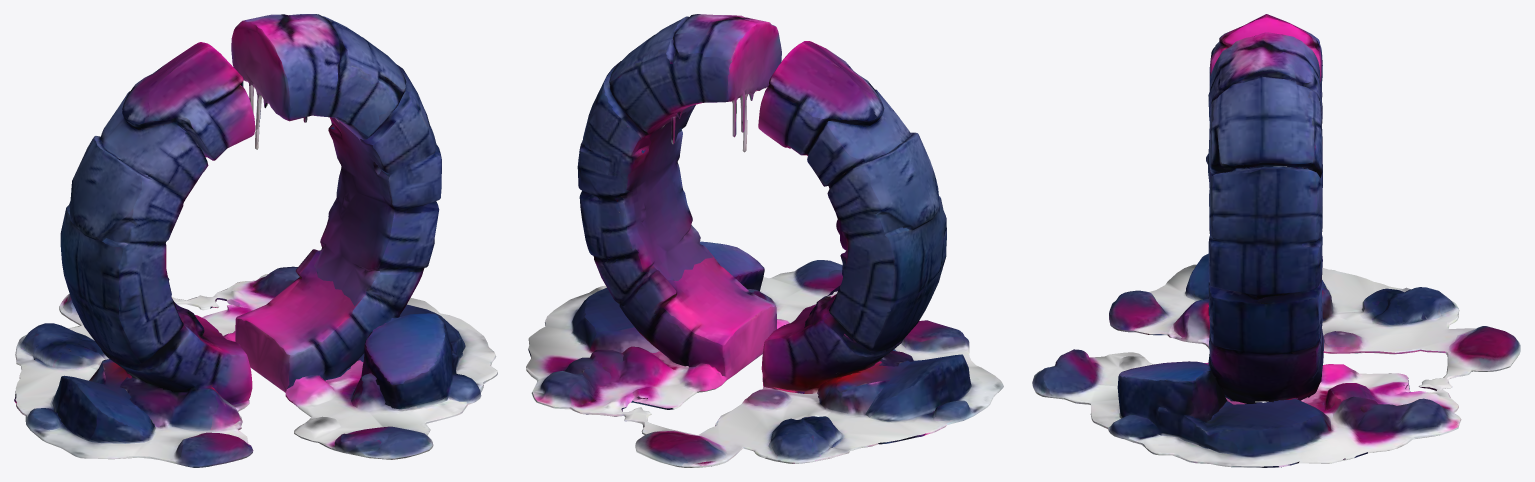
The model's file is broken-ring-generated-2026-05-17T21-20-11-613Z.low.glb.
3 renders of one model, left to right at view 1: azimuth 30°, elevation 25°; view 2: azimuth 150°, elevation 25°; view 3: azimuth 270°, elevation 25°, orthographic. The views are drawn at different scales.
Visible parts, largest first — view 1: temp_mesh.ply; view 2: temp_mesh.ply; view 3: temp_mesh.ply.
Part boxes in pixels (bbox=[...]): temp_mesh.ply: bbox=[14, 14, 497, 467]; temp_mesh.ply: bbox=[526, 14, 1003, 467]; temp_mesh.ply: bbox=[1032, 14, 1520, 467].
Bounding box in the file's own units: 1.93 × 1.47 × 1.93.
Materials: 1 (1 with a texture image).
